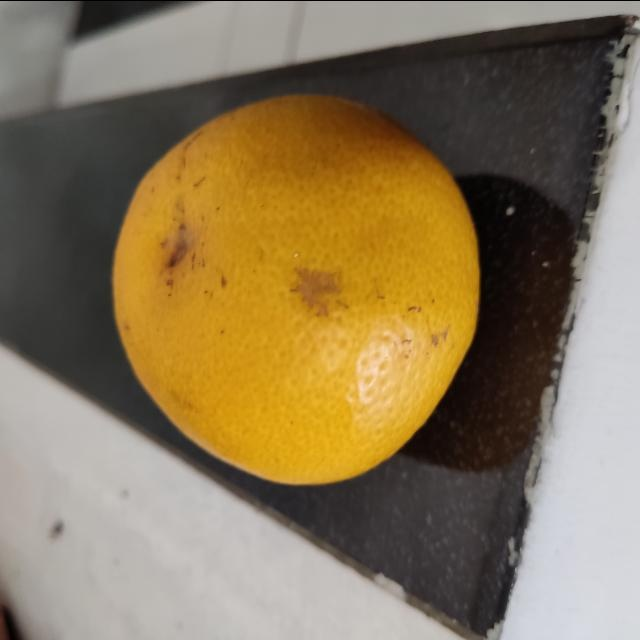agrume: (110, 93, 482, 491)
